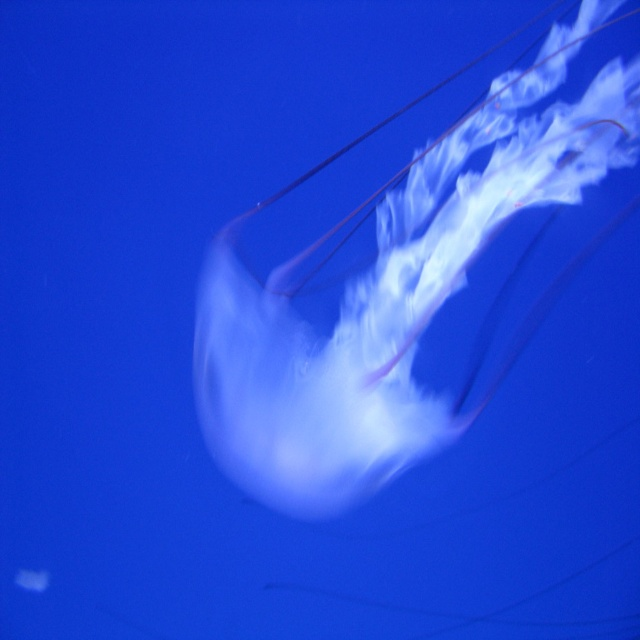Jellyfish: (181, 1, 636, 541)
